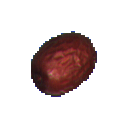gd: (20, 21, 112, 128)
